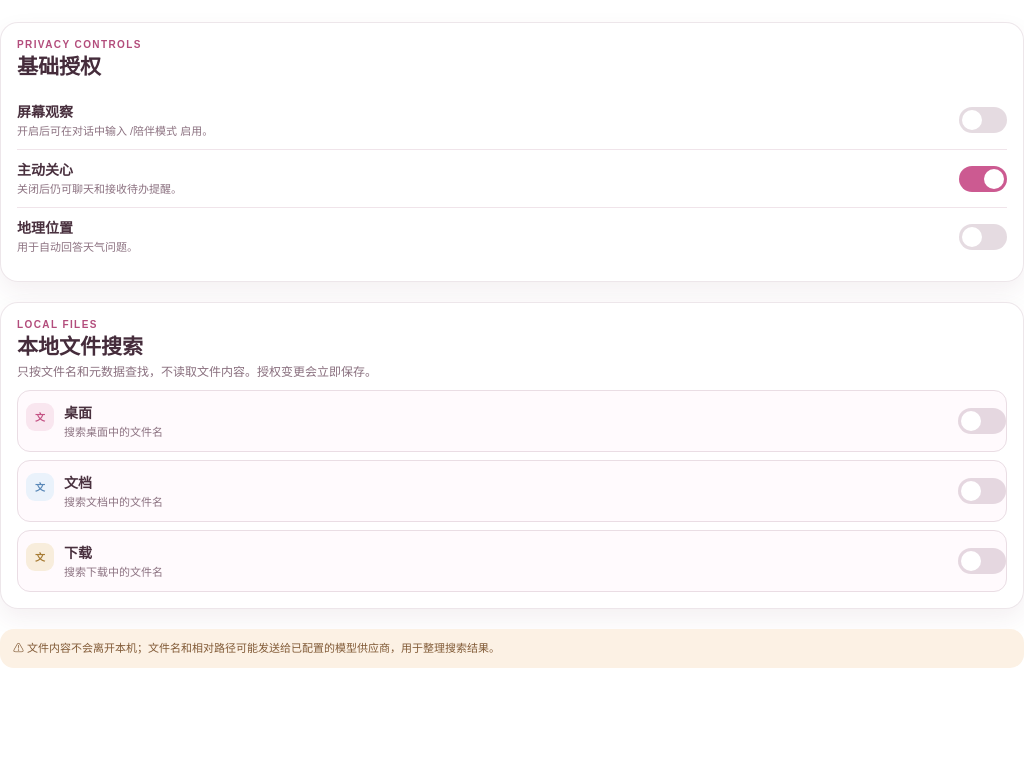
PrivacySettings › persists a directory permission immediately and restores it after remount
Later steps or results of the test are not shown.
Step 1. Click the checkbox named "搜索桌面文件" → (982, 421), box [958,408,1006,434]
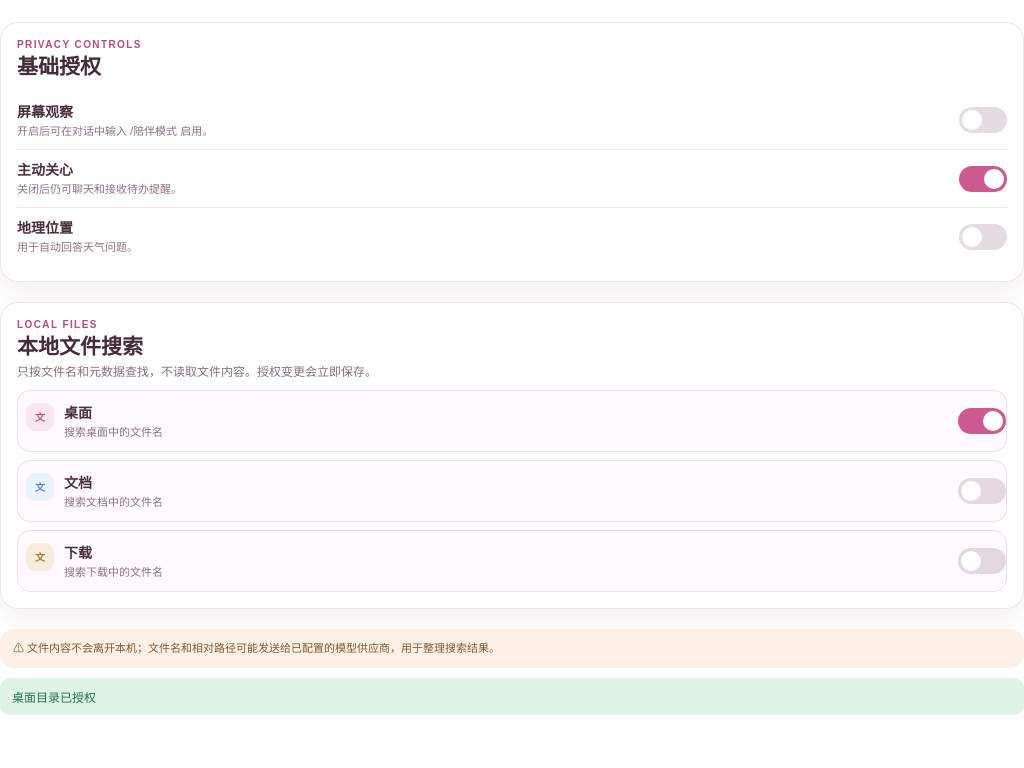
Expected: the text "桌面目录已授权" is shown, [0,678,1023,715]
